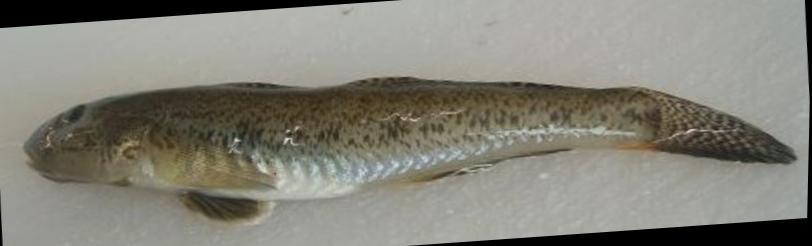fish: (25, 77, 797, 223)
